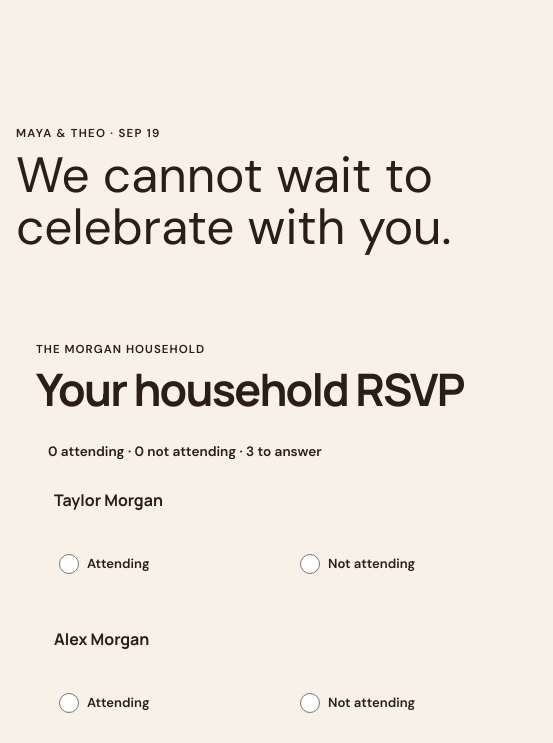
household RSVP guest flow › keeps live household-only counts for all attending
Expected: the heading "Your household RSVP" is shown, [36,365,536,414]
Click the radio button labelled "Attending" below "Taylor Morgan": click(69, 564) [59,540,79,588]
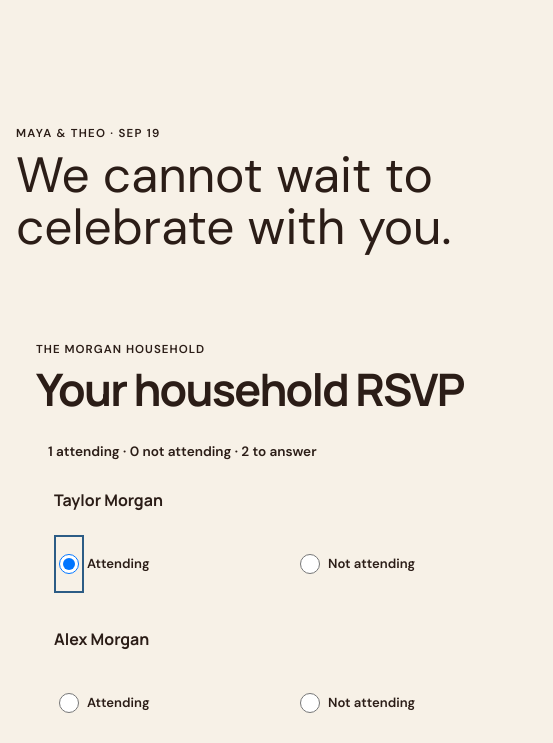
Click the radio button labelled "Attending" below "Alex Morgan": click(69, 703) [59,679,79,727]
(page scrolled)
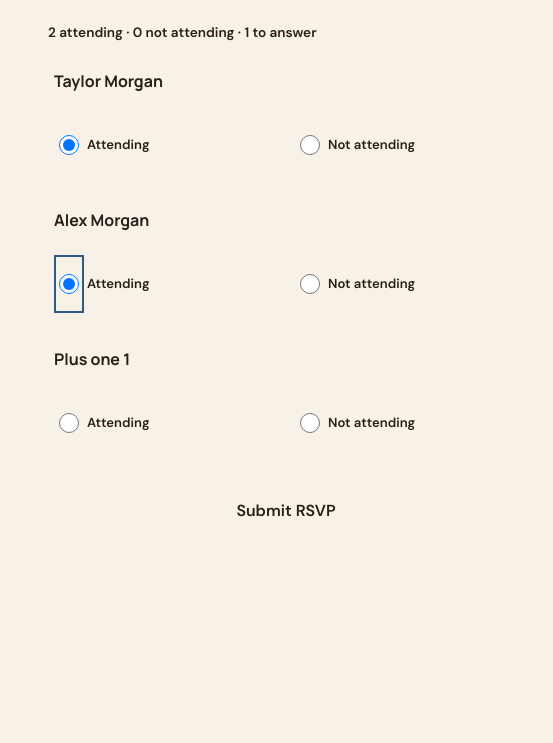
Click the radio button labelled "Attending" below "Plus one 1": click(69, 423) [59,399,79,447]
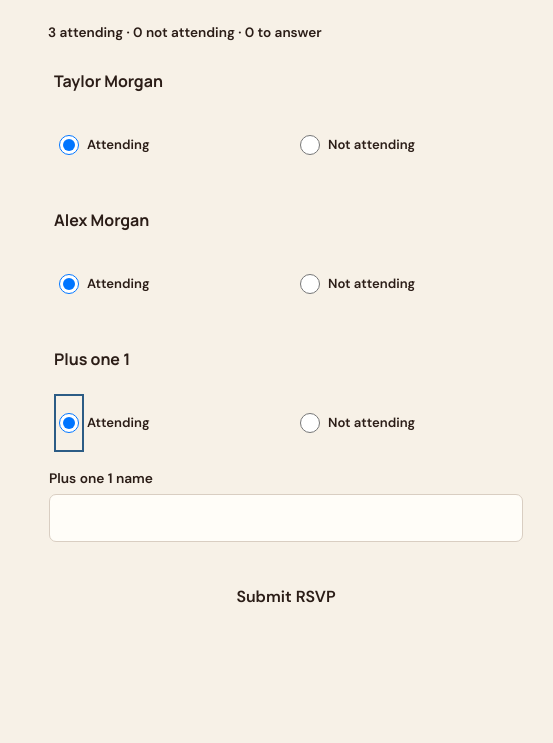
Result: the text "3 attending · 0 not attending · 0 to answer" is shown at [48,24,322,41]
